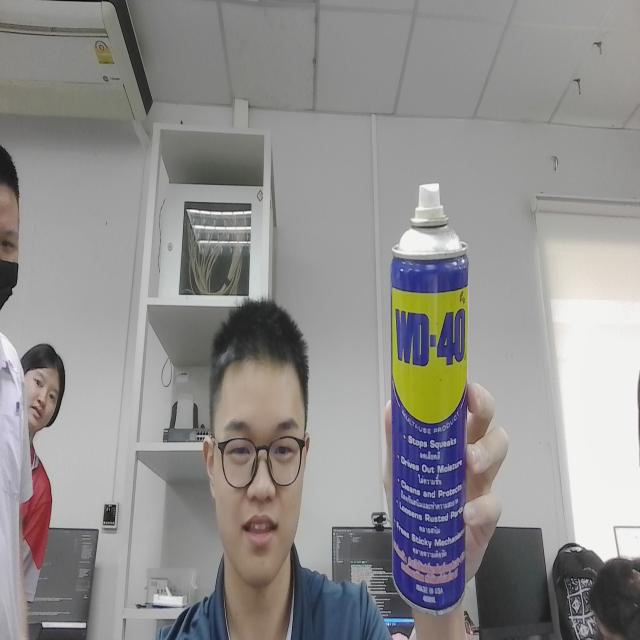wd-40: (383, 161, 473, 622)
